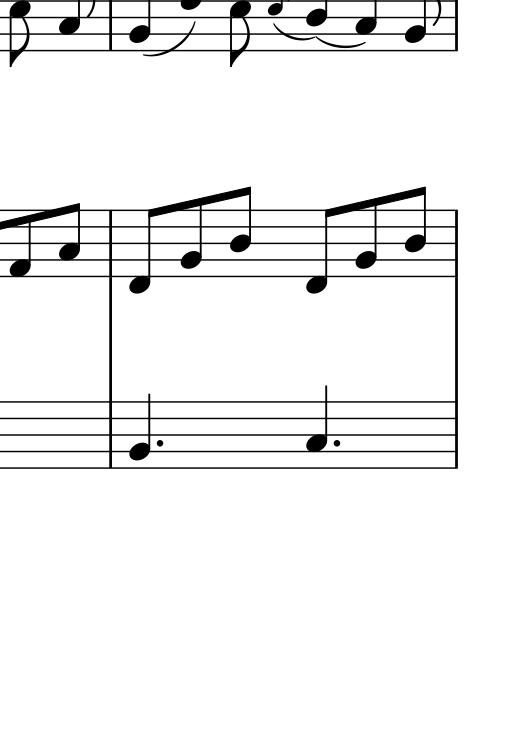4_2: (129, 392, 152, 470)
4_3: (305, 385, 329, 470)
8_-1: (301, 206, 341, 294), (127, 205, 166, 293)
8_1: (10, 208, 34, 278)
8_2: (177, 196, 205, 277), (352, 197, 380, 278)
8_3: (57, 201, 82, 278)
8_4: (402, 184, 429, 280), (227, 186, 253, 278)
Single_barline: (448, 399, 463, 468), (106, 208, 120, 278), (103, 403, 118, 468), (449, 208, 462, 278)
dot: (153, 438, 166, 450), (332, 437, 340, 448)
